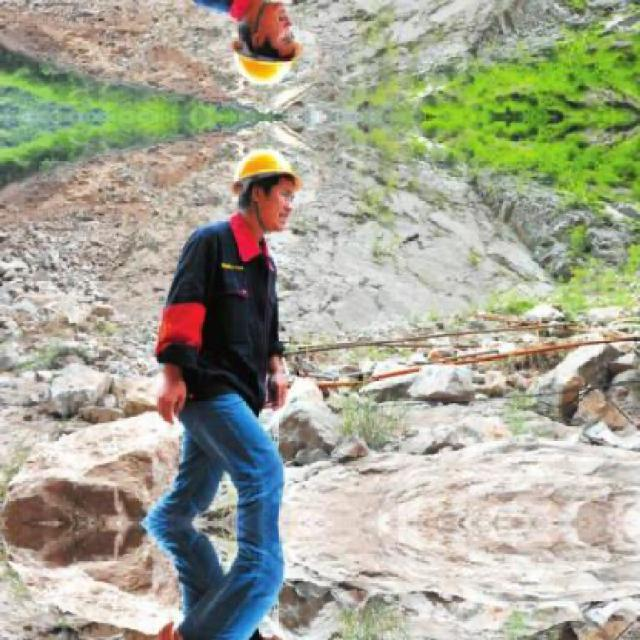con casco: (185, 135, 324, 243)
